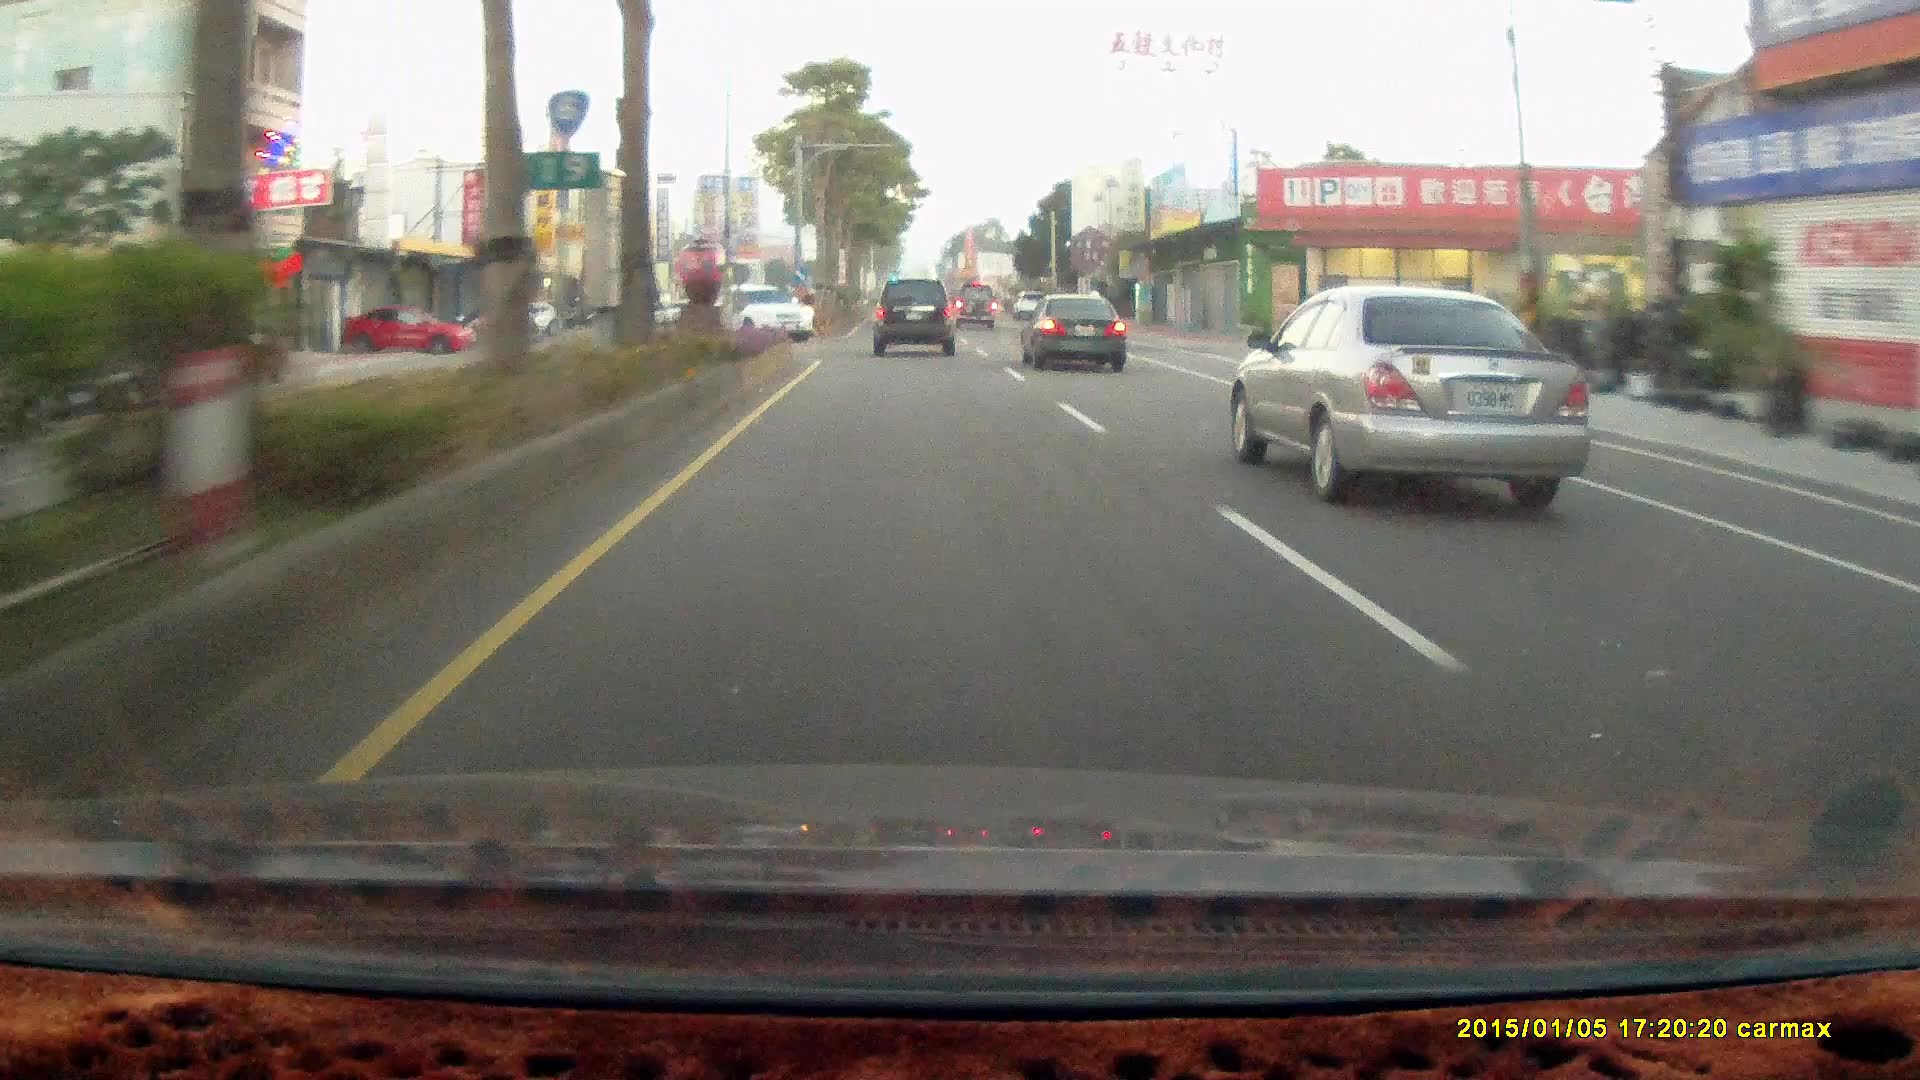vehicle: (1238, 284, 1586, 502), (1018, 290, 1130, 376), (1017, 293, 1124, 371), (334, 305, 481, 357), (874, 276, 963, 361), (338, 303, 472, 355), (872, 280, 953, 357), (721, 284, 815, 345), (732, 282, 815, 344), (949, 284, 998, 334), (949, 284, 997, 332)
